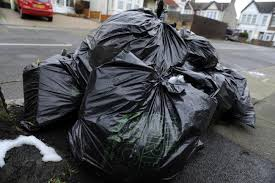Trash: (74, 61, 213, 177), (61, 8, 185, 60), (17, 55, 73, 126)
